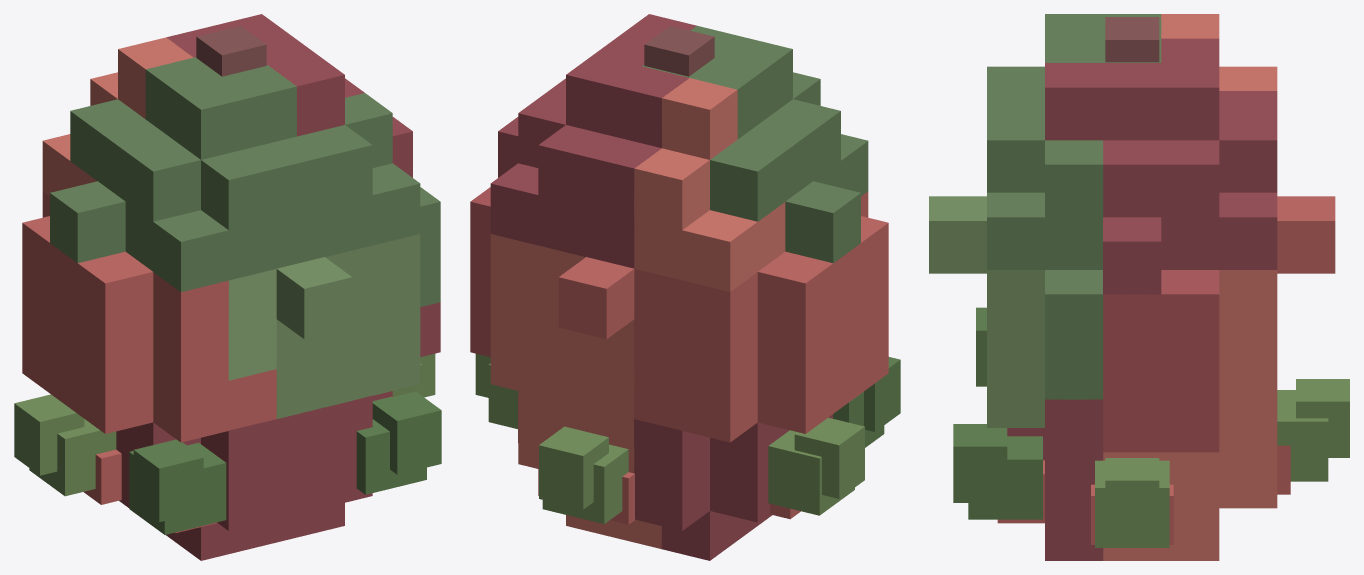
The model's file is DF-03_valdivia_roja.glb.
The picture shows the model from 3 angles, left to right: view 1: azimuth 30°, elevation 25°; view 2: azimuth 150°, elevation 25°; view 3: azimuth 270°, elevation 25°; orthographic projection. The views are drawn at different scales.
Parts seen in each view (by area): view 1: Valdivia Roja · original workbench cubes; view 2: Valdivia Roja · original workbench cubes; view 3: Valdivia Roja · original workbench cubes.
Part boxes in pixels (x1=…): Valdivia Roja · original workbench cubes: x1=14, y1=14, x2=441, y2=560; Valdivia Roja · original workbench cubes: x1=470, y1=14, x2=900, y2=560; Valdivia Roja · original workbench cubes: x1=929, y1=14, x2=1349, y2=560.
Bounding box in the file's own units: 0.111 × 0.132 × 0.1016.
